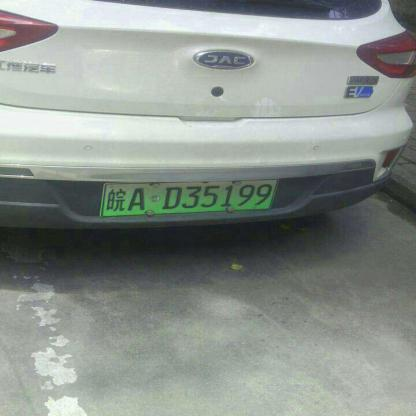lp: (102, 180, 276, 214)
